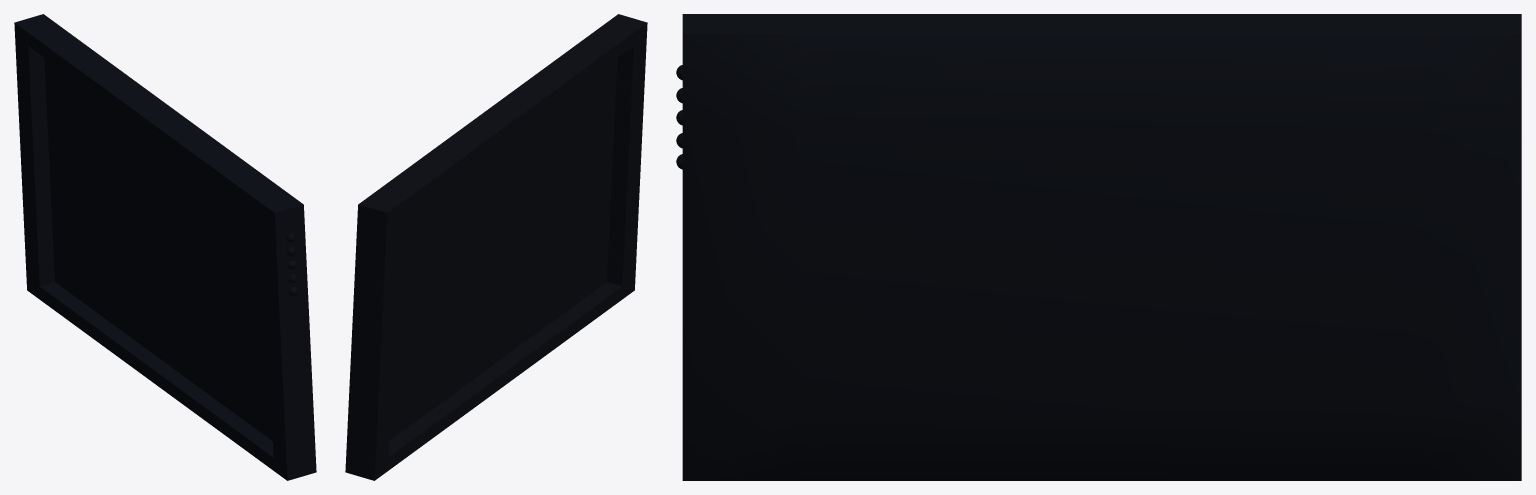
Rendered from pantallaEstructura.obj.
3 renders of one model, left to right at view 1: azimuth 30°, elevation 25°; view 2: azimuth 150°, elevation 25°; view 3: azimuth 270°, elevation 25°, orthographic. The views are drawn at different scales.
Parts seen in each view (by area): view 1: pantallaEstructura:pSphere6; view 2: pantallaEstructura:pSphere6; view 3: pantallaEstructura:pSphere6.
Part boxes in pixels (x1,y1,x2,y2): pantallaEstructura:pSphere6: (14,14,316,480); pantallaEstructura:pSphere6: (345,14,647,480); pantallaEstructura:pSphere6: (676,14,1521,480).
Size of the model in its own units: 1.3 by 5.35 by 9.33.
